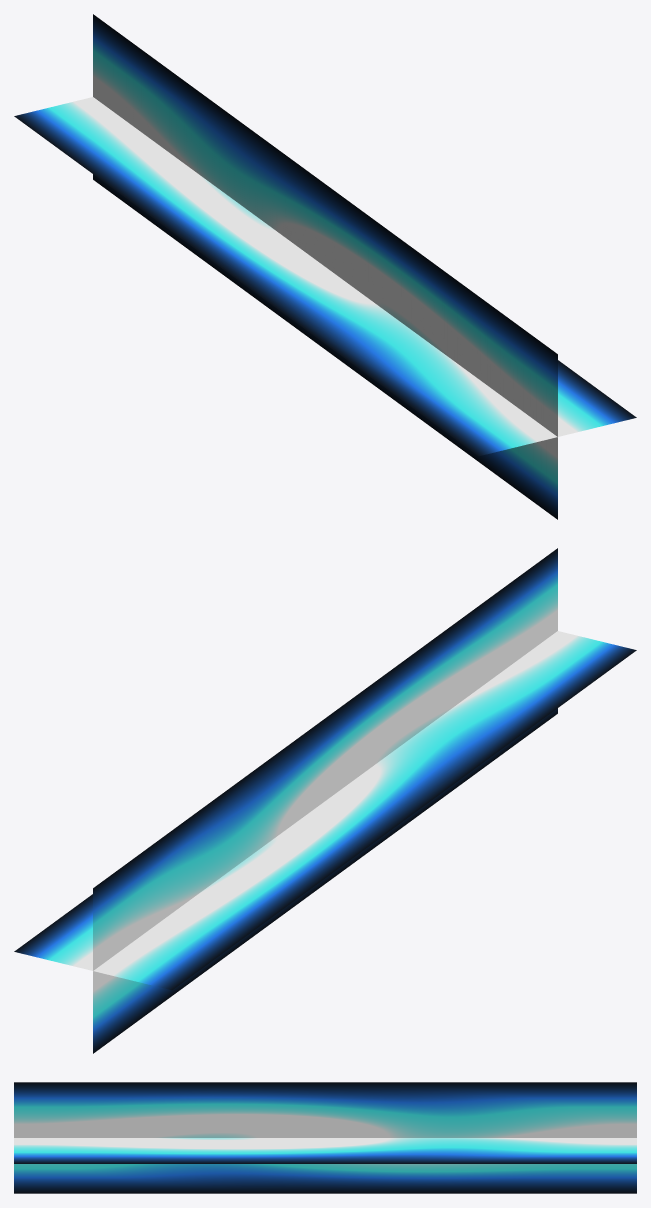
Rendered from audio_visual.gltf.
3 renders of one model, top to bottom at view 1: azimuth 30°, elevation 25°; view 2: azimuth 150°, elevation 25°; view 3: azimuth 270°, elevation 25°, orthographic. The views are drawn at different scales.
Visible parts, largest first — view 1: audio_visual; view 2: audio_visual; view 3: audio_visual.
Boxes of the visible parts, <box> form: audio_visual: <box>14,14,636,519</box>; audio_visual: <box>14,548,636,1053</box>; audio_visual: <box>14,1082,636,1193</box>.
Size of the model in its own units: 0.1352 by 0.1352 by 0.6875.
1 material, 1 textured.
